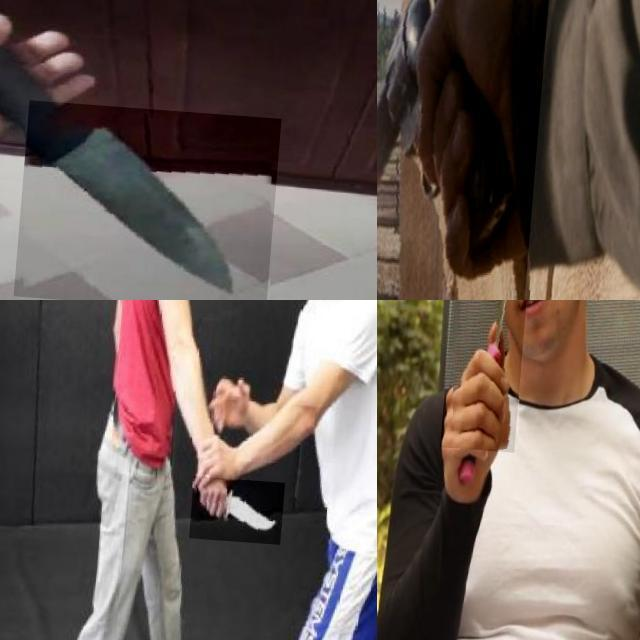-: (21, 97, 285, 300), (446, 300, 535, 445), (196, 472, 292, 539)
gun-knife-thesis - v11 Yolov5 augmented: (377, 0, 553, 300)
